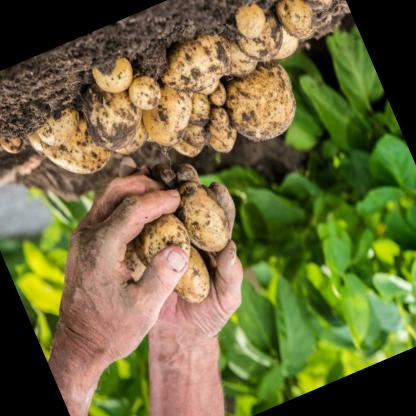potato: (210, 48, 310, 152), (67, 59, 160, 160), (30, 95, 120, 189), (148, 18, 242, 102), (128, 67, 208, 154), (166, 170, 239, 262), (122, 202, 200, 284), (148, 228, 219, 314), (28, 94, 88, 152), (87, 49, 140, 101), (268, 0, 325, 48)
